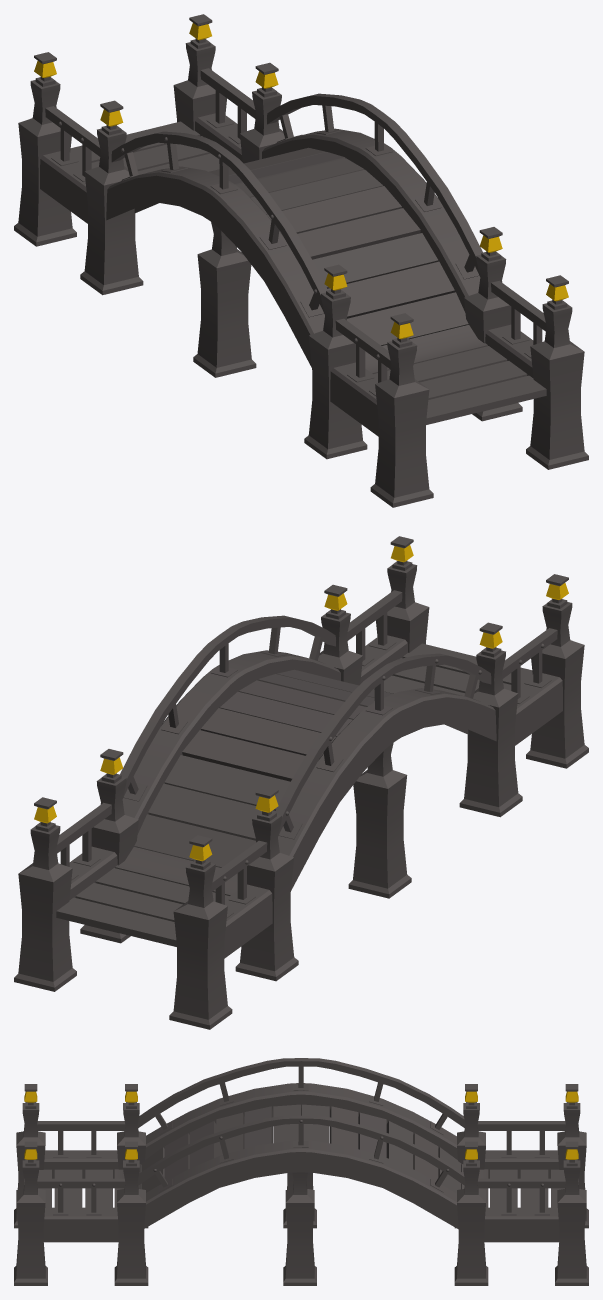
Rendered from brug.fbx.
The picture shows the model from 3 angles, top to bottom: view 1: azimuth 30°, elevation 25°; view 2: azimuth 150°, elevation 25°; view 3: azimuth 270°, elevation 25°; orthographic projection. The views are drawn at different scales.
Parts seen in each view (by area): view 1: Cube.010; view 2: Cube.010; view 3: Cube.010.
Part boxes in pixels (box(x1,y1,x2,y2)): Cube.010: box(14, 14, 588, 507); Cube.010: box(14, 536, 588, 1029); Cube.010: box(14, 1058, 588, 1285).
Size of the model in its own units: 6.17 by 6.4 by 20.67.
